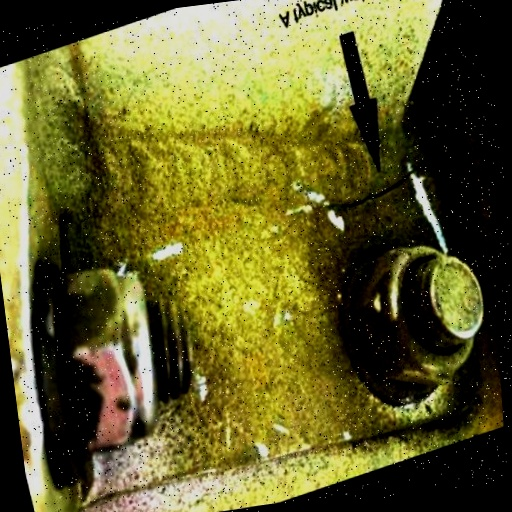crack: (168, 78, 512, 330)
